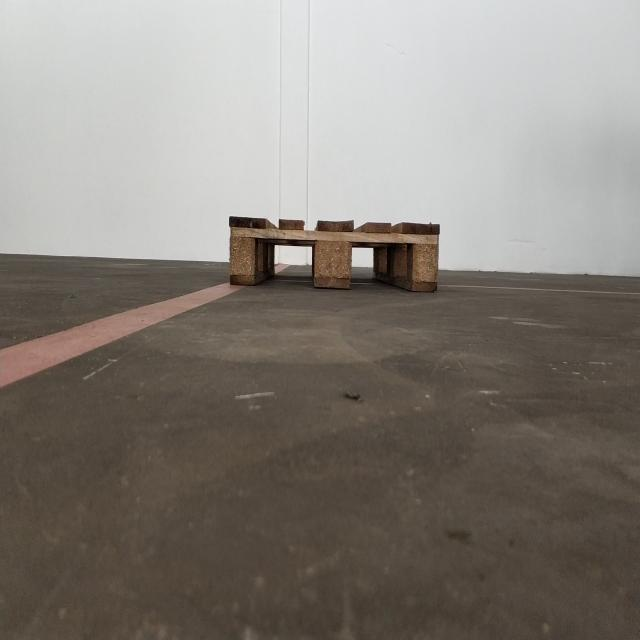block: (311, 221, 354, 290), (406, 221, 442, 296), (228, 213, 260, 290)
front: (226, 208, 441, 295)
